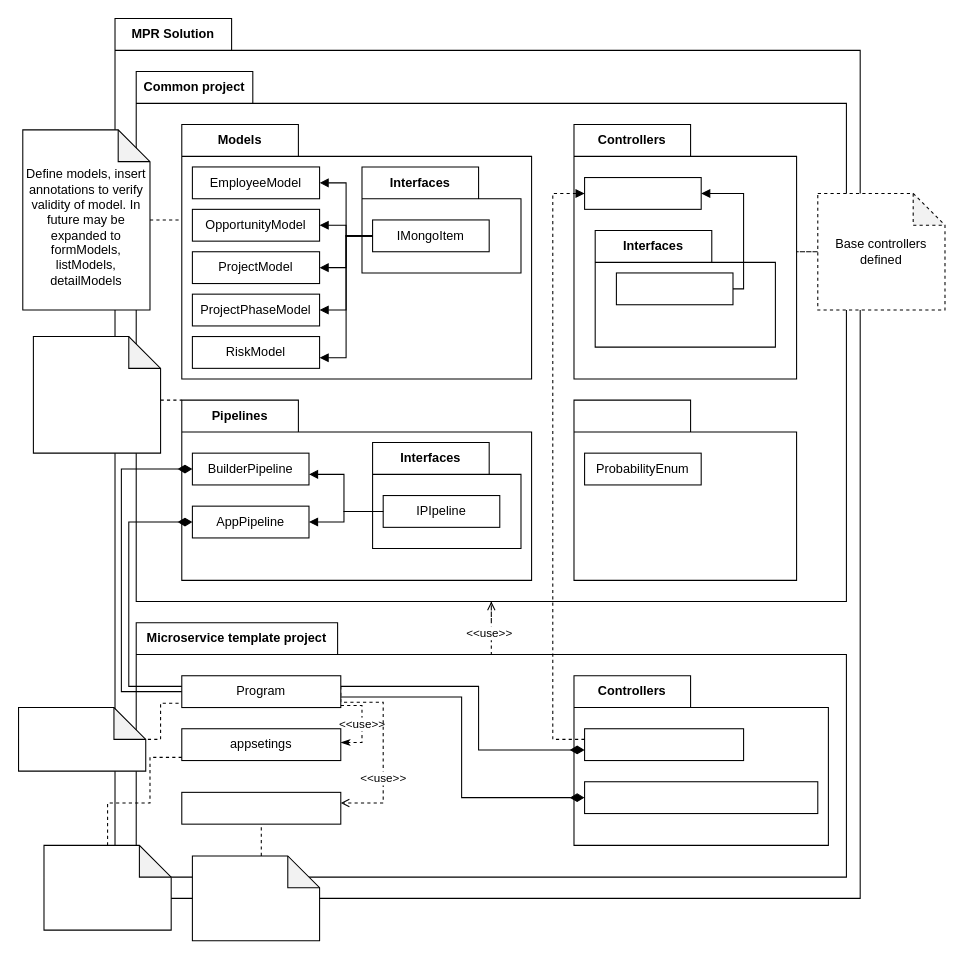
Image size: 964x959. Some labels were removed from this diagram. Here are the shapes that lost their labels. From the top down, the centre of each, then its label:
point 642,192: Controller
point 674,288: IController
point 96,394: Aggregate defining services and minimalApi configuration
point 685,489: Enums
point 81,738: Microservice startup
point 664,744: MicroserviceController
point 261,807: User secrets
point 701,797: MicroserviceMessageBrokerController
point 107,887: Configuration, which is published into git
point 255,898: Safe place to define passwords and connection strings
